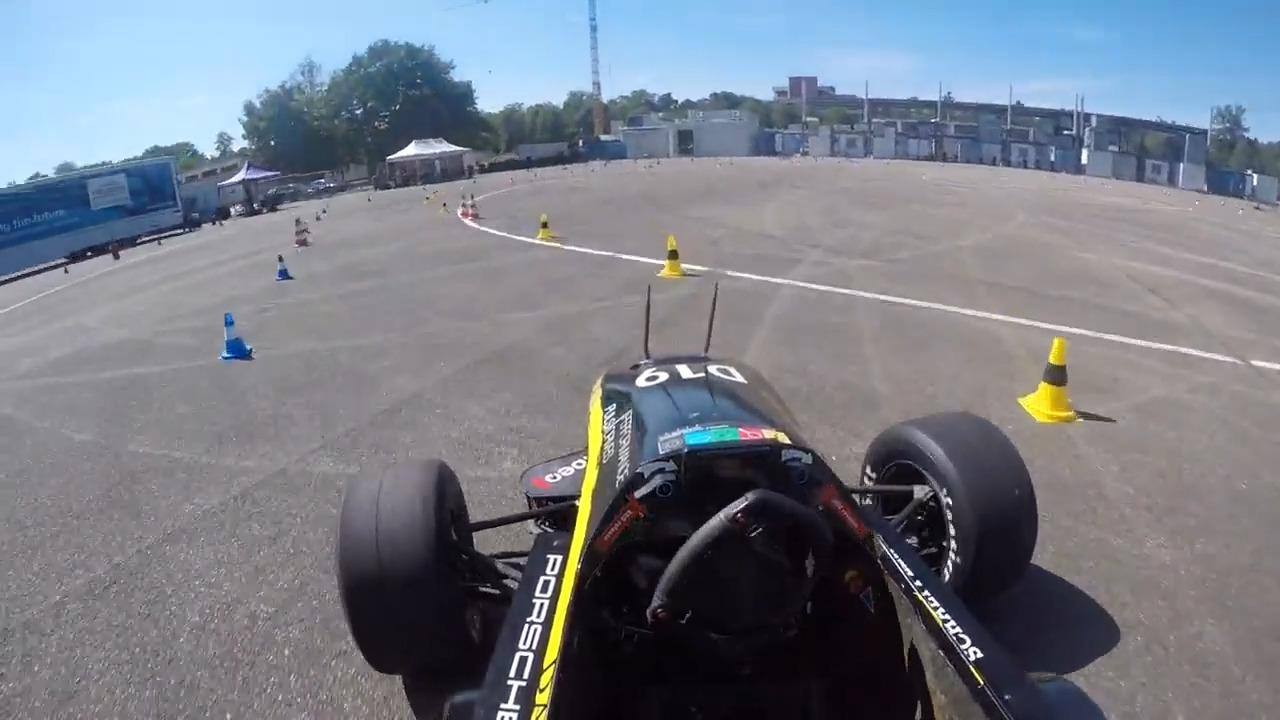blue_cone: (214, 308, 255, 359), (272, 251, 293, 282), (315, 210, 323, 222)
large_orange_cone: (293, 220, 306, 248), (467, 194, 480, 221), (302, 218, 312, 247), (457, 193, 468, 219)
yellow_cone: (1013, 335, 1080, 424), (652, 232, 687, 277), (533, 214, 556, 241), (440, 201, 450, 214)
